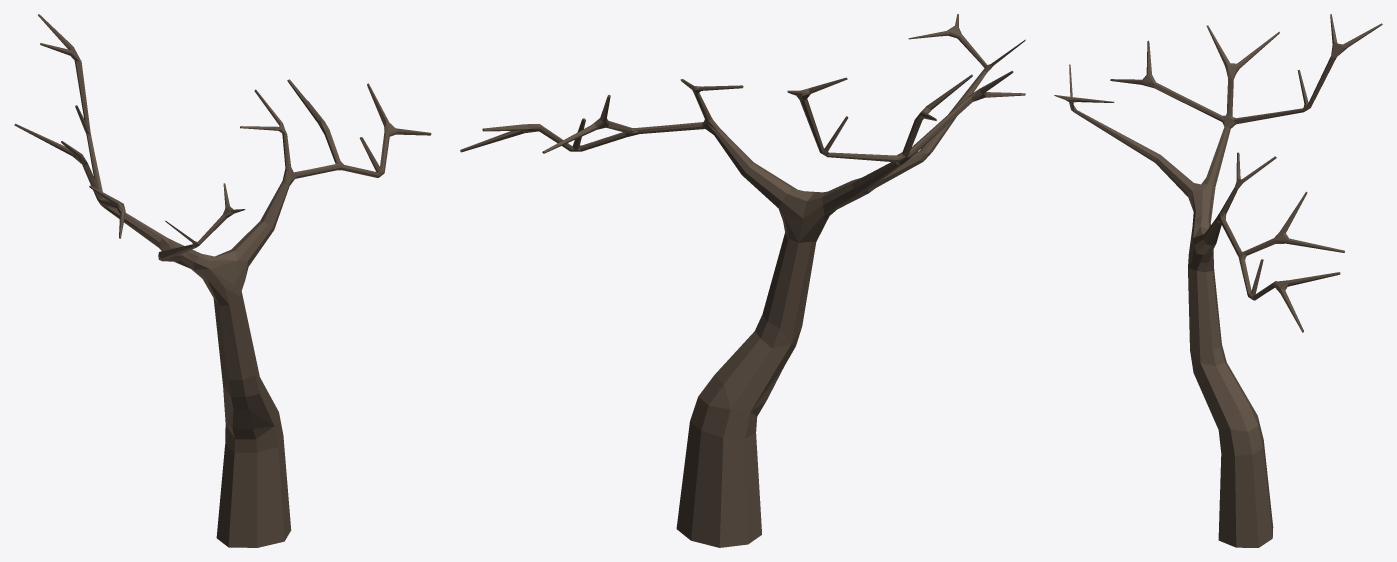
The model's file is TreeDead3.fbx.
The picture shows the model from 3 angles, left to right: view 1: azimuth 30°, elevation 25°; view 2: azimuth 150°, elevation 25°; view 3: azimuth 270°, elevation 25°; orthographic projection. The views are drawn at different scales.
Visible parts, largest first — view 1: Cube.001; view 2: Cube.001; view 3: Cube.001.
Boxes of the visible parts, x1,y1,x2,y2 form: Cube.001: (14, 14, 431, 547); Cube.001: (460, 14, 1025, 547); Cube.001: (1054, 14, 1382, 547).
Bounding box in the file's own units: 367 × 407 × 270.
